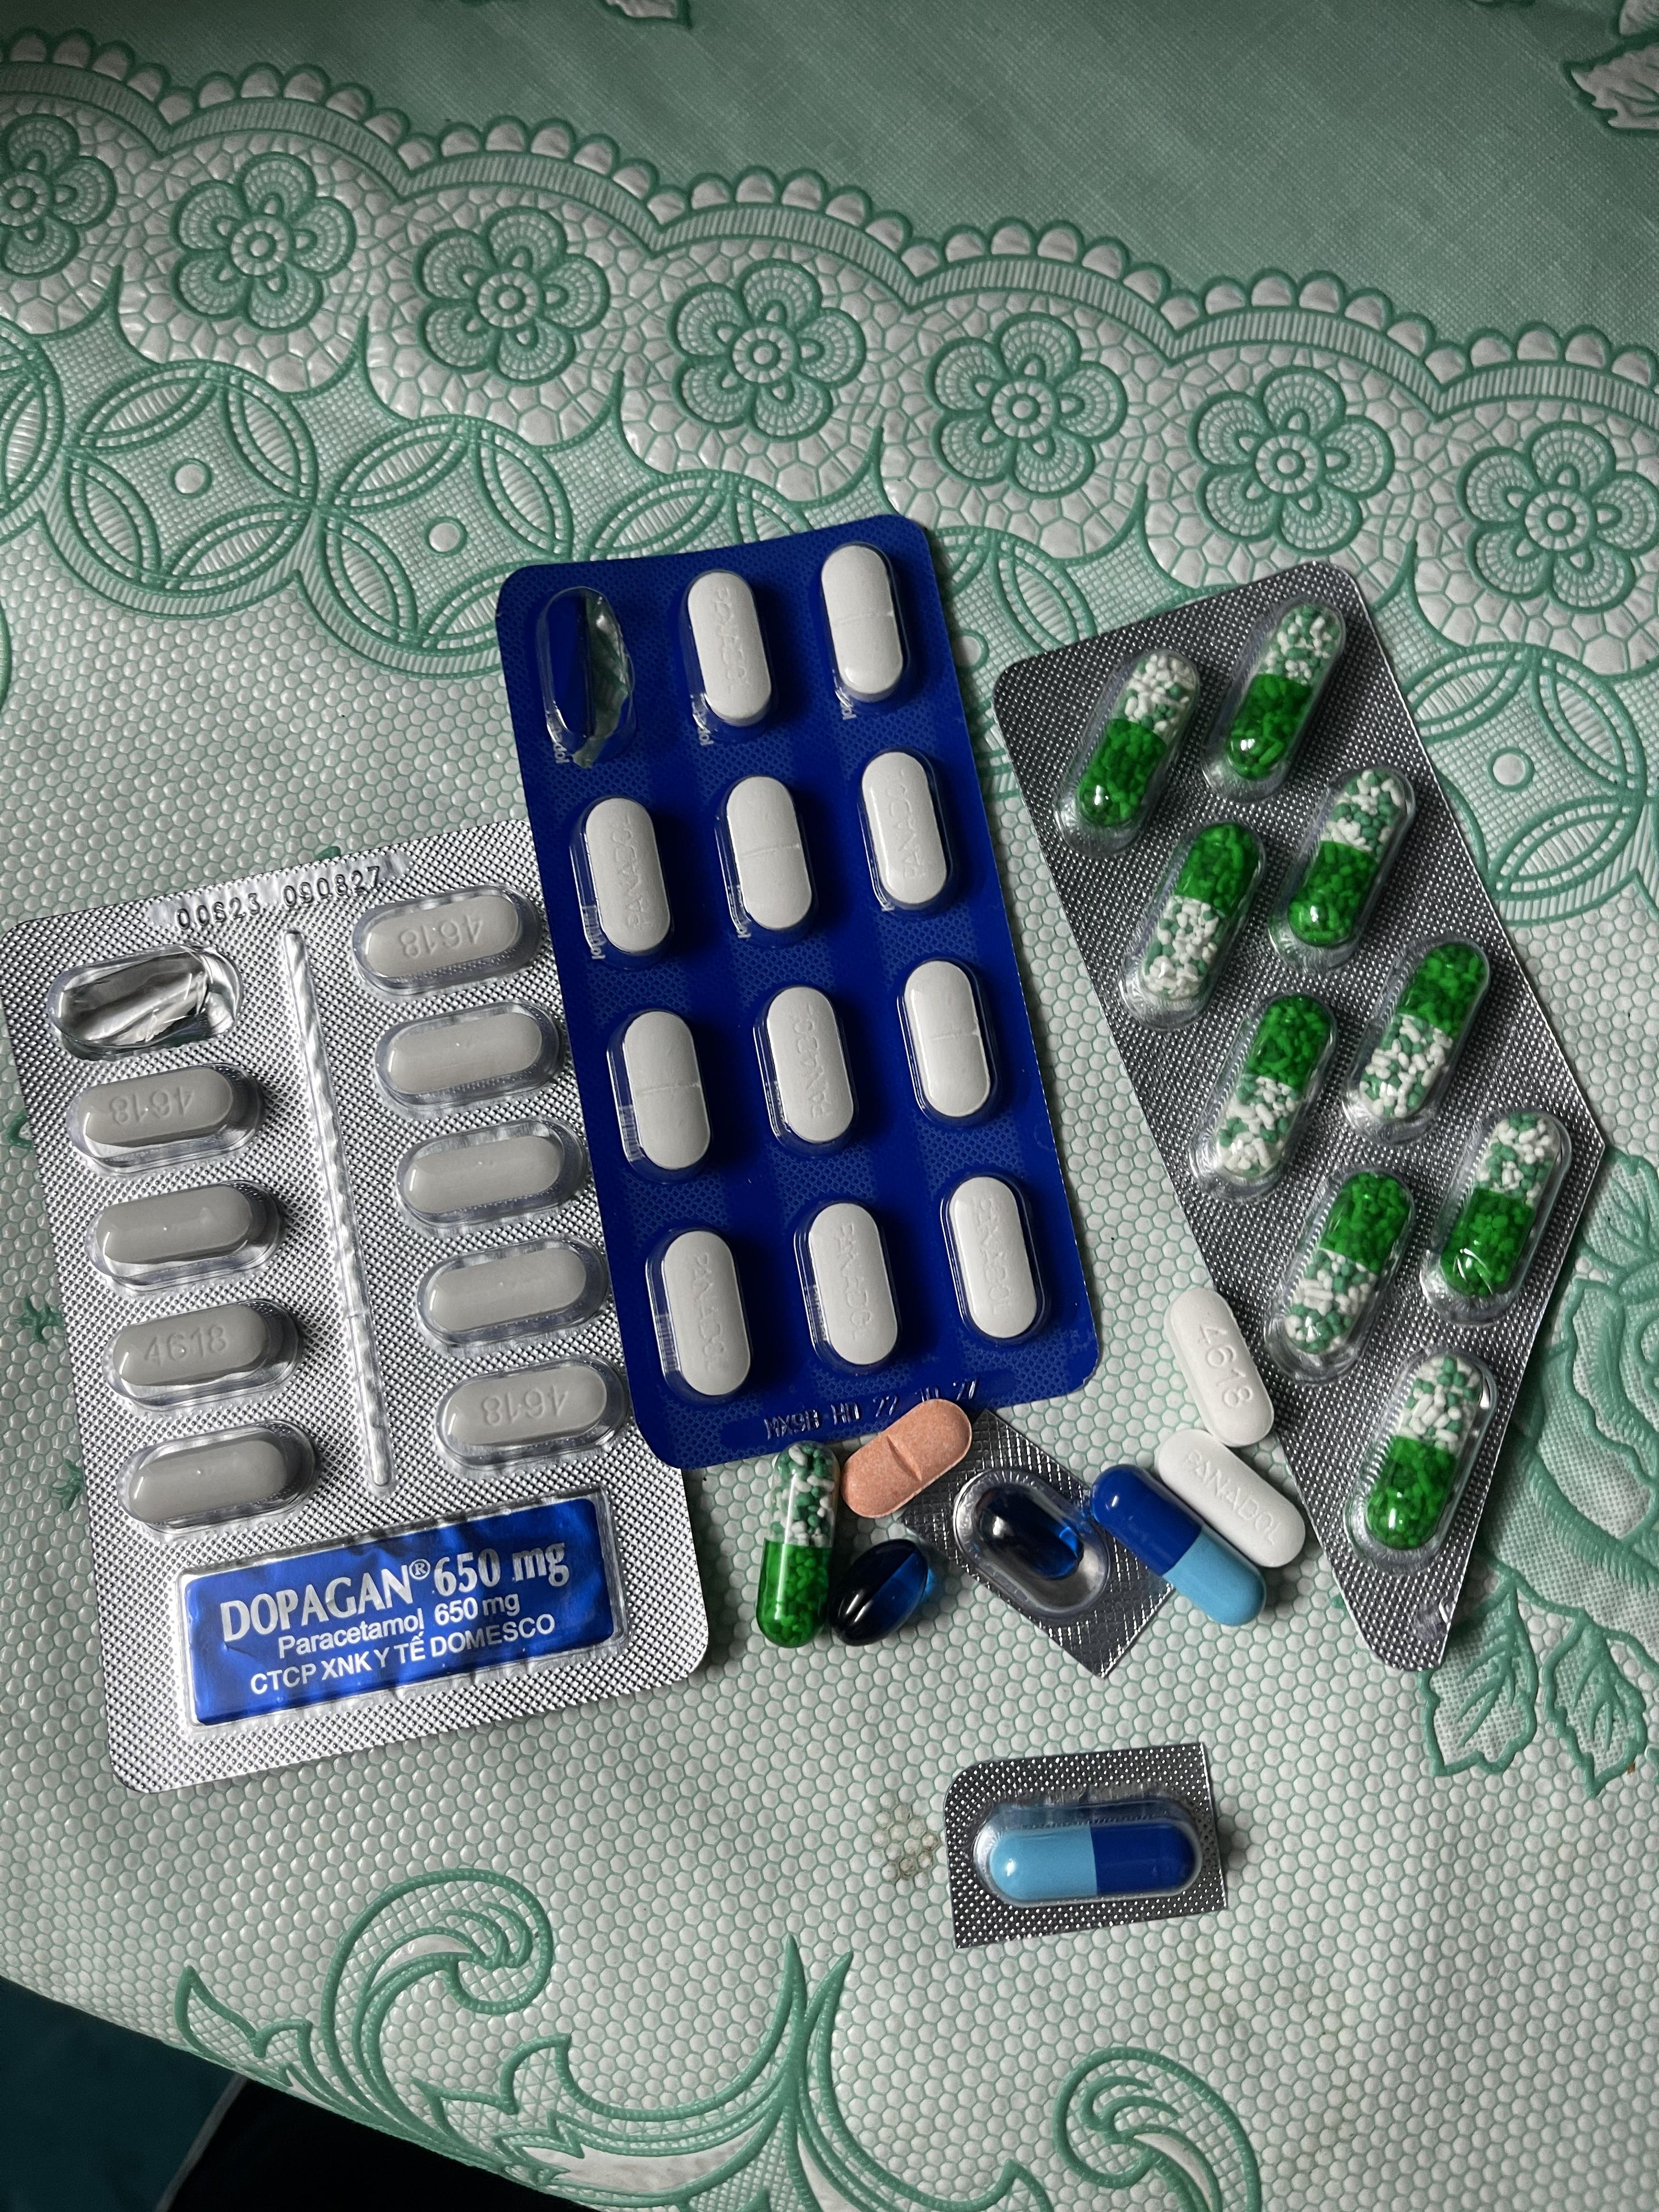Lincomyxin_500mg: (826, 1536, 939, 1646), (981, 1489, 1079, 1576)
Loratadine_10mg: (840, 1400, 972, 1517)
Paracetamol_350mg: (1155, 1428, 1310, 1573), (941, 1172, 1049, 1348), (648, 1228, 753, 1400), (901, 960, 1000, 1129), (803, 1205, 903, 1374), (762, 986, 859, 1155), (617, 1010, 716, 1176), (718, 777, 819, 939), (859, 756, 960, 914), (577, 799, 674, 958), (685, 573, 775, 733), (821, 543, 906, 704)
Paracetamol_500mg: (84, 1177, 284, 1292), (63, 1061, 263, 1176), (413, 1233, 603, 1352), (103, 1298, 303, 1409), (430, 1360, 624, 1475), (117, 1423, 319, 1533), (396, 1118, 584, 1235), (375, 1000, 559, 1113), (350, 883, 537, 989), (1166, 1284, 1277, 1444)
Paracetamol_650mg: (1260, 1160, 1408, 1364), (1190, 993, 1335, 1191), (1272, 773, 1415, 968), (1354, 946, 1493, 1134), (1356, 1350, 1486, 1550), (1427, 1120, 1565, 1310), (1134, 827, 1262, 1007), (1220, 606, 1345, 782), (1077, 653, 1194, 831), (755, 1447, 836, 1648)
pill: (1098, 1461, 1262, 1623), (978, 1810, 1199, 1905)
